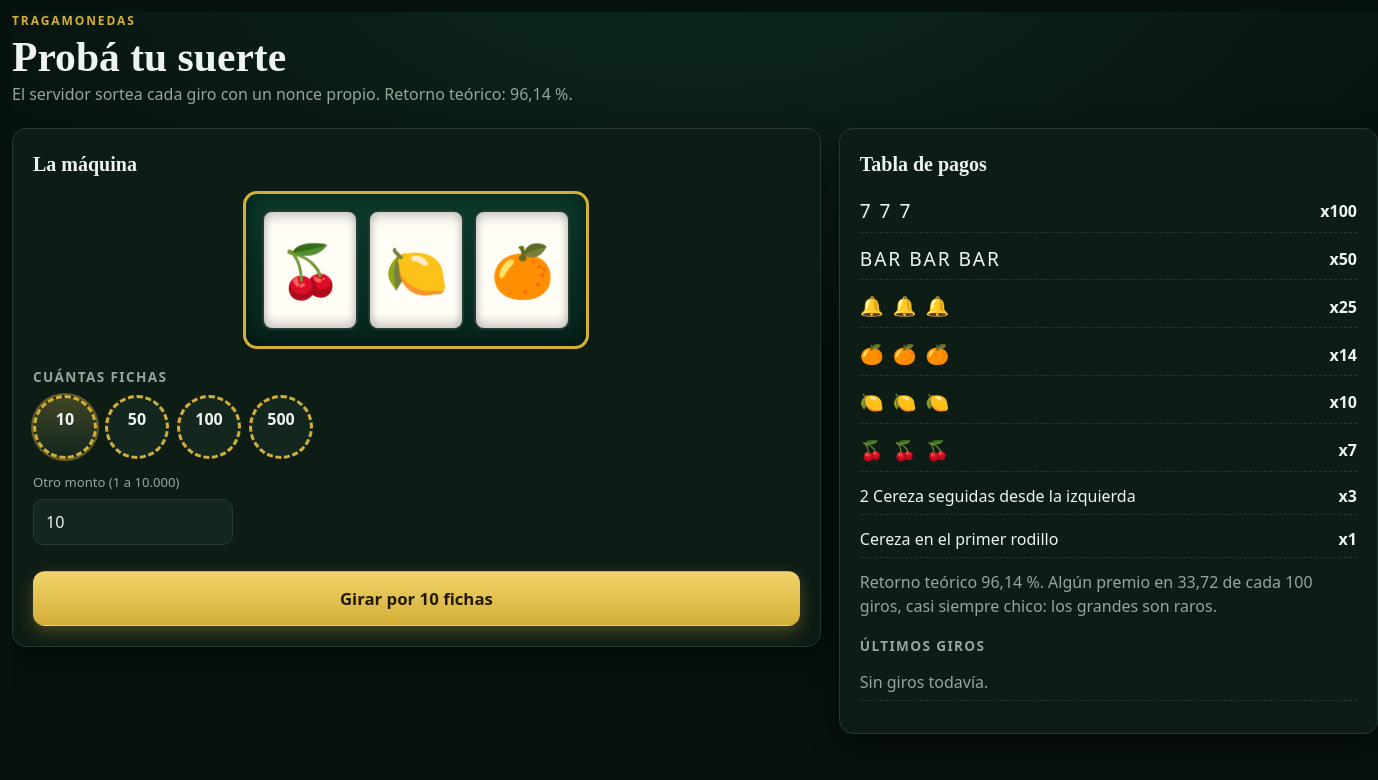
Test: Slots › shows a loss without celebrating
The width and height of the screenshot is (1378, 780).
What coordinates should you click on to do the following:
click the button "Girar por 10 fichas"
I would click on:
 (416, 598)
Its box is [33,571,800,626].
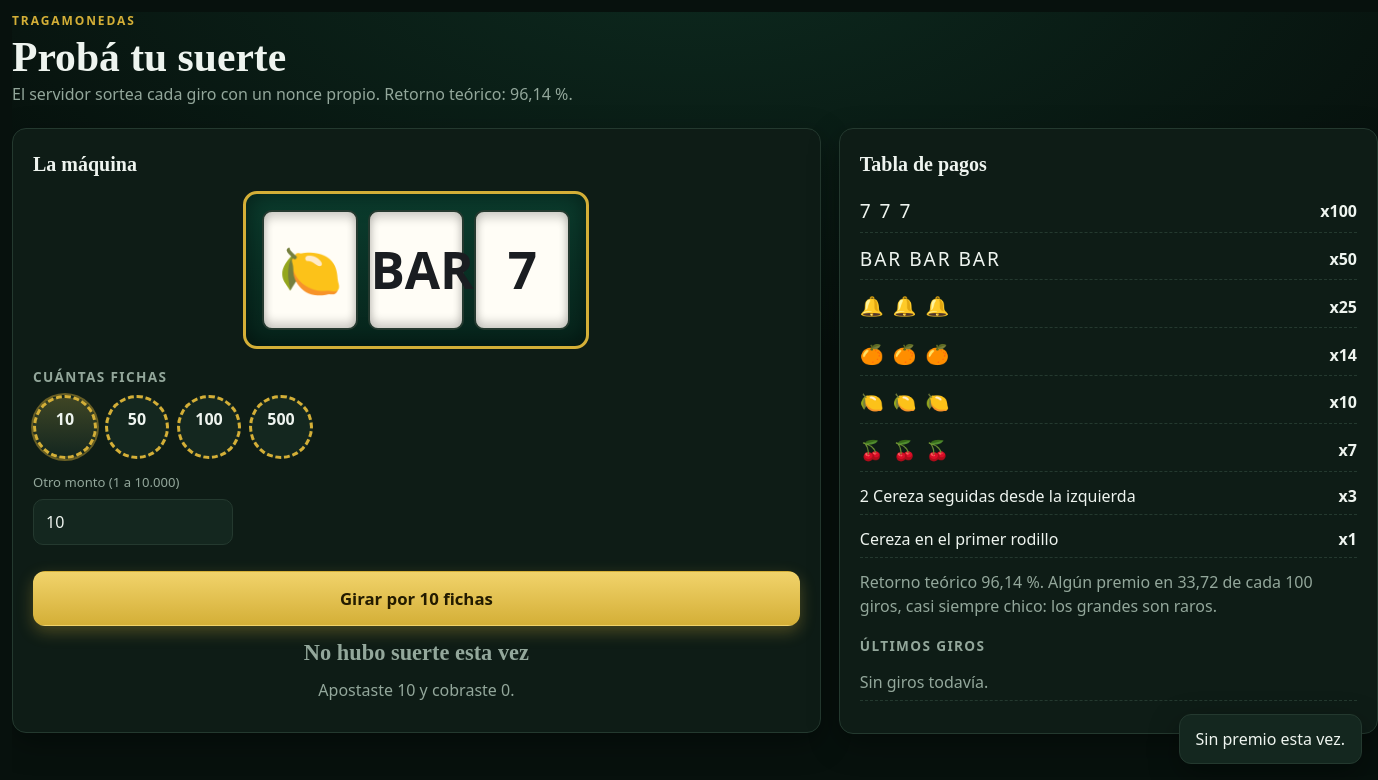
Now the text "No hubo suerte esta vez" is shown, box [304,636,529,670]
